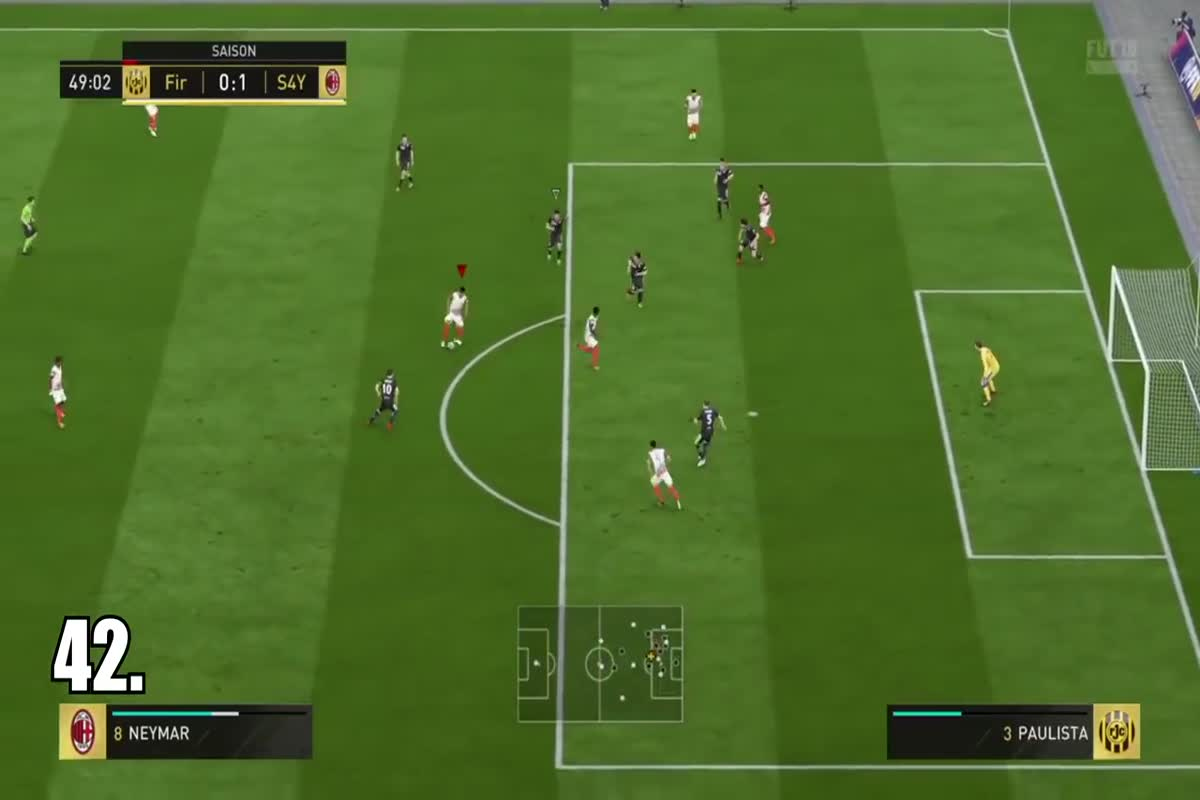ball: (444, 337, 462, 354)
